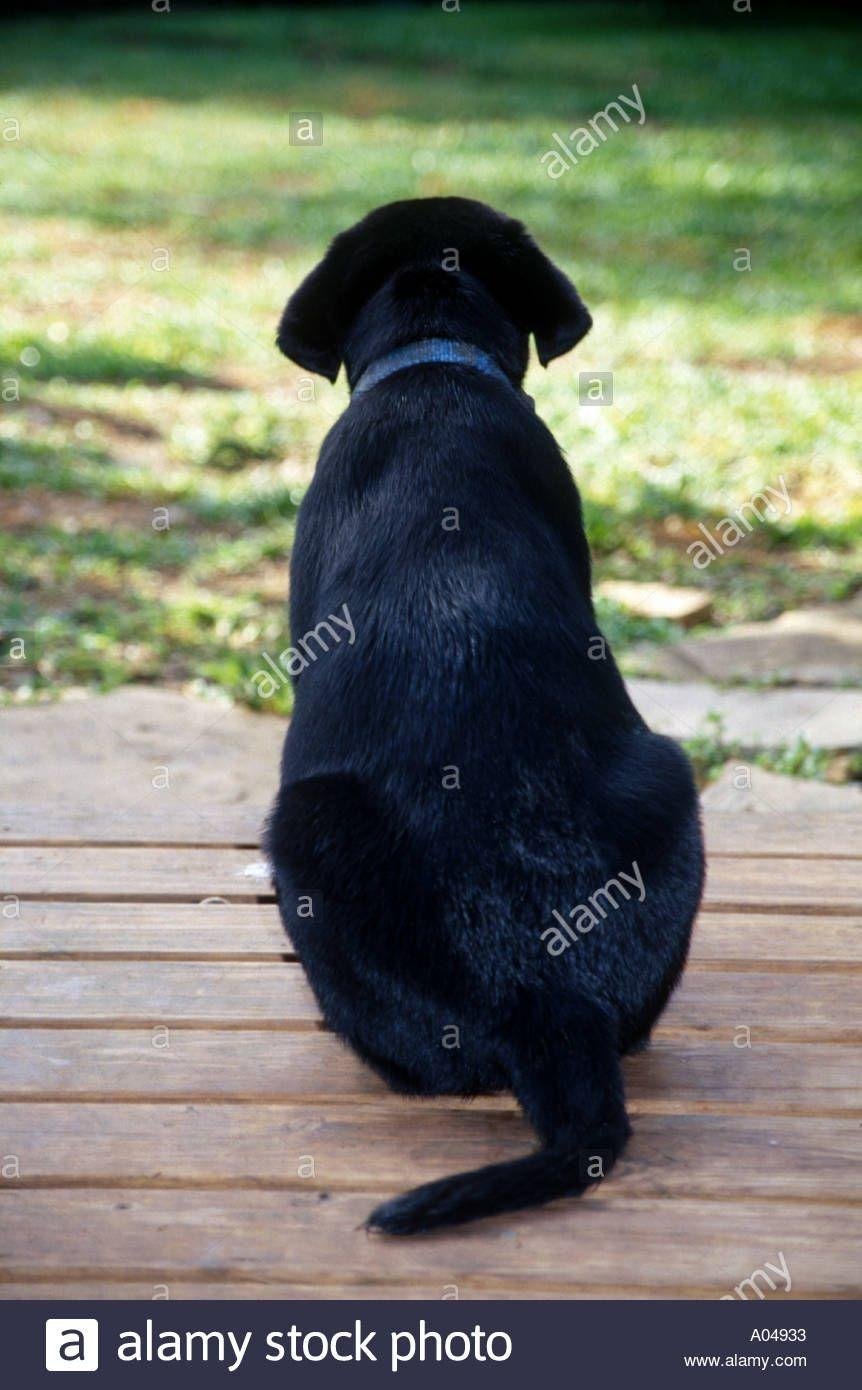adult_dog: (258, 197, 705, 1240)
